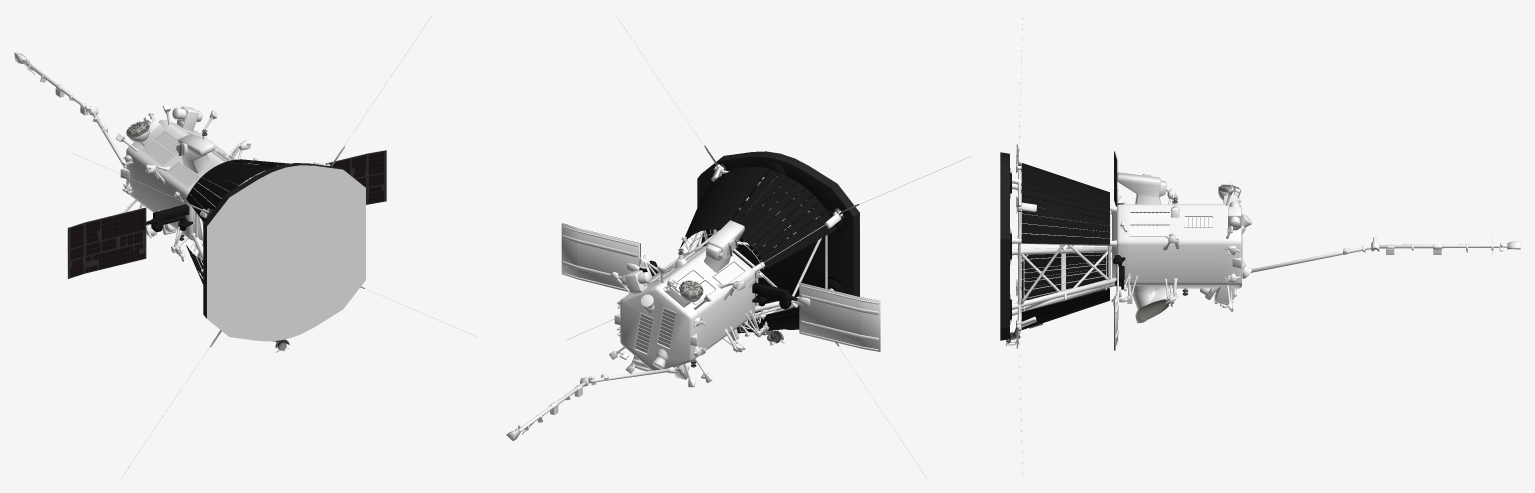
Rendered from parker-solar-probe.glb.
3 views of the same model, side by side, from view 1: azimuth 30°, elevation 25°; view 2: azimuth 150°, elevation 25°; view 3: azimuth 270°, elevation 25° (orthographic). The views are drawn at different scales.
Visible parts, largest first — view 1: Cylinder.053, Cylinder.008, CoolingSystem, vents, Cube.025, Cylinder.128; view 2: Cylinder.008, CoolingSystem, Cylinder.053, solarWing_RightBacking, solarWing_LeftBacking, vents, Cylinder.128, Cube.025, heatShield_Mounting; view 3: Cylinder.008, CoolingSystem, Cylinder.053, vents, Cube.025, CoolingSystem_frame.
Part boxes in pixels (x1,y1,x2,y2): Cylinder.053: (68, 121, 386, 352); Cylinder.008: (115, 104, 330, 272); CoolingSystem: (186, 159, 289, 284); vents: (141, 130, 234, 186); Cube.025: (14, 52, 143, 205); Cylinder.128: (146, 204, 192, 232); Cylinder.008: (609, 164, 842, 387); CoolingSystem: (680, 166, 837, 333); Cylinder.053: (563, 145, 878, 367); solarWing_RightBacking: (799, 282, 880, 351); solarWing_LeftBacking: (561, 223, 639, 291); vents: (634, 247, 745, 354); Cylinder.128: (627, 260, 810, 309); Cube.025: (506, 367, 680, 440); heatShield_Mounting: (764, 162, 843, 310); Cylinder.008: (1012, 163, 1251, 329); CoolingSystem: (1021, 163, 1109, 329); Cylinder.053: (1000, 144, 1241, 350); vents: (1129, 204, 1242, 278); Cube.025: (1251, 237, 1520, 272); CoolingSystem_frame: (1007, 204, 1110, 345).
Size of the model in its own units: 2.61 by 2.39 by 3.
7 materials, 2 textured.
